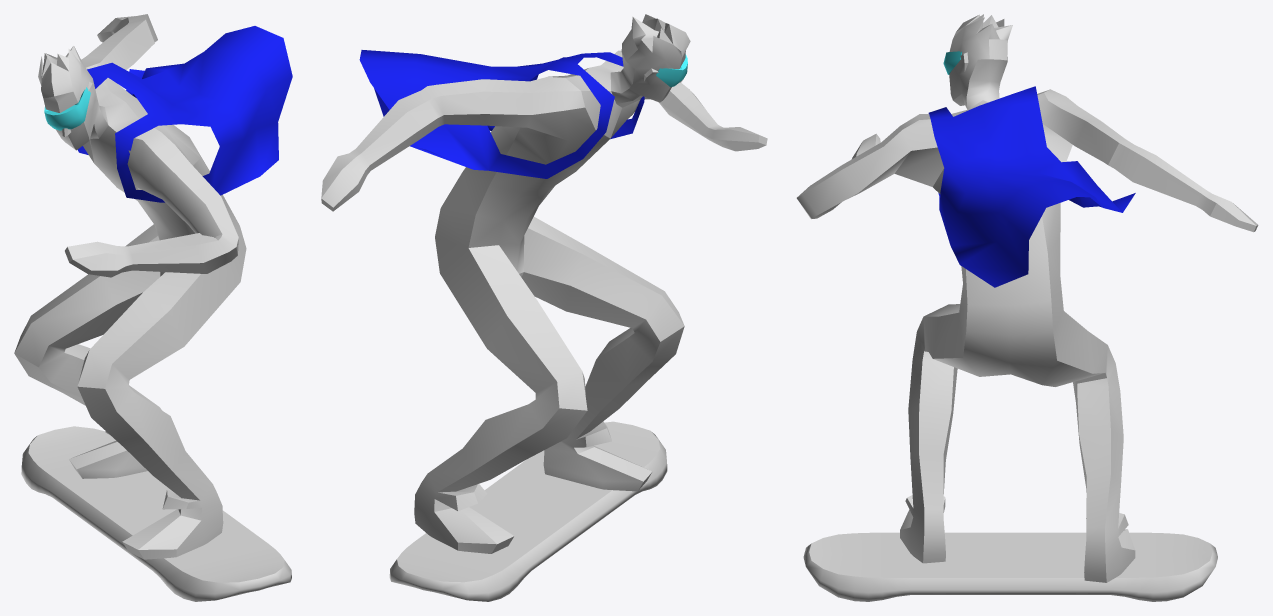
File: Rad-Man.FBX
3 renders of one model, left to right at view 1: azimuth 30°, elevation 25°; view 2: azimuth 150°, elevation 25°; view 3: azimuth 270°, elevation 25°, orthographic. The views are drawn at different scales.
Parts seen in each view (by area): view 1: Box003; view 2: Box003; view 3: Box003.
Boxes of the visible parts, bbox=[...] form: Box003: bbox=[14, 14, 292, 601]; Box003: bbox=[321, 14, 767, 601]; Box003: bbox=[796, 14, 1258, 601].
Size of the model in its own units: 92.06 by 122 by 148.
